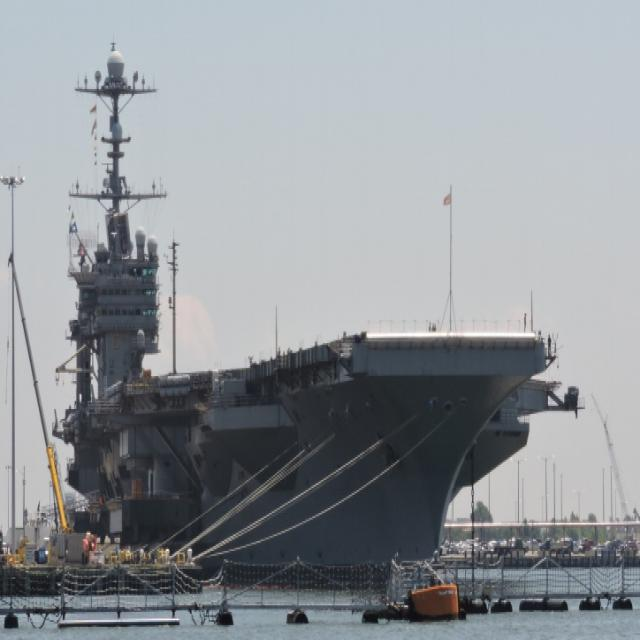Portanaves: (48, 33, 589, 589)
